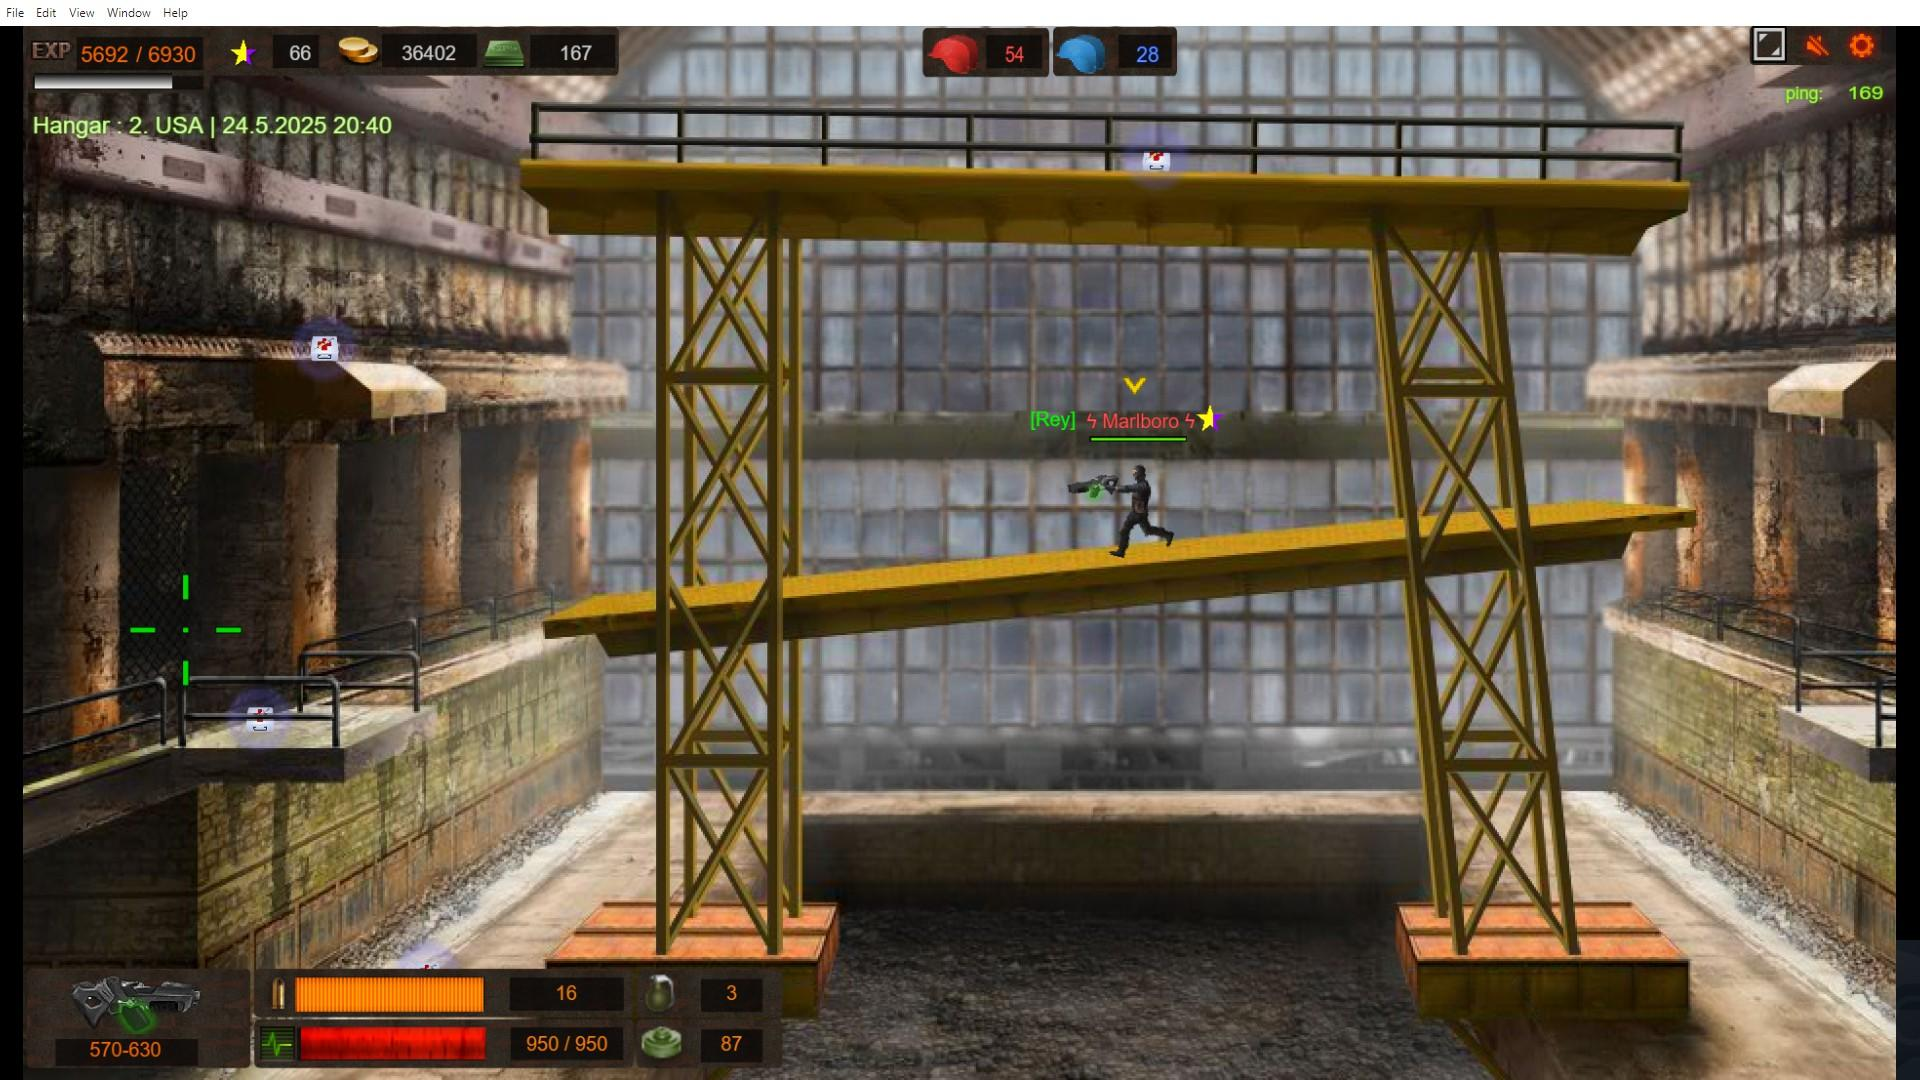enemy: (1127, 465, 1153, 559)
